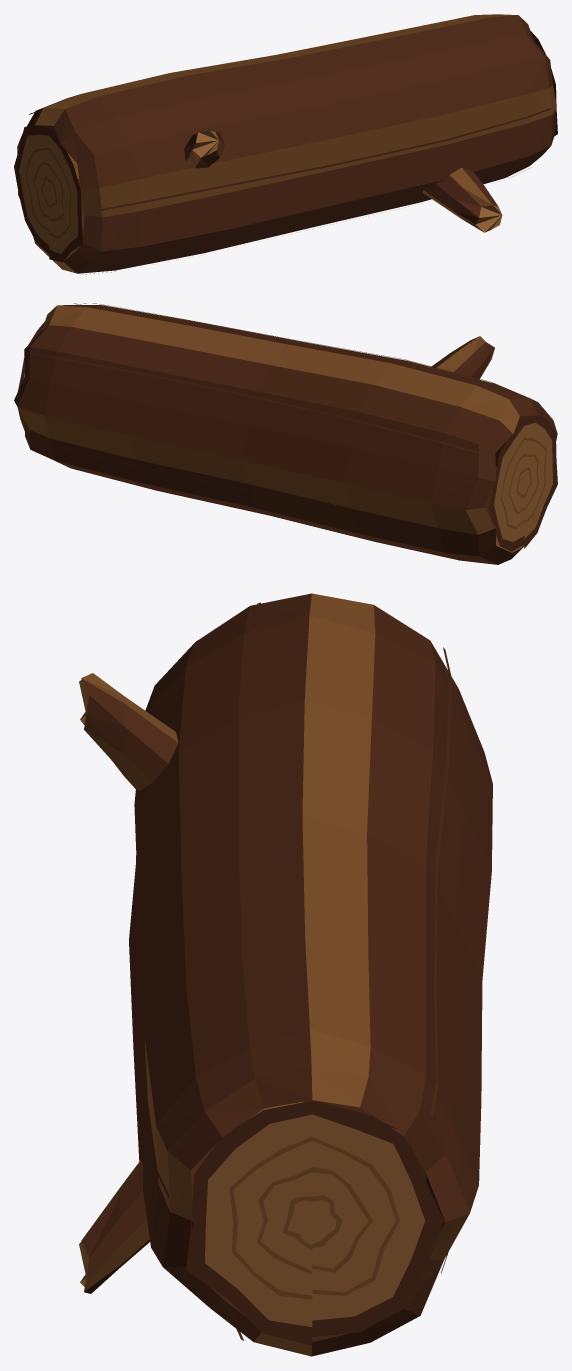
Rendered from SM_ForestCartoonLog.obj.
The picture shows the model from 3 angles, top to bottom: view 1: azimuth 30°, elevation 25°; view 2: azimuth 150°, elevation 25°; view 3: azimuth 270°, elevation 25°; orthographic projection. The views are drawn at different scales.
Visible parts, largest first — view 1: SM_ForestCartoonLog; view 2: SM_ForestCartoonLog; view 3: SM_ForestCartoonLog.
Part boxes in pixels (x1=…): SM_ForestCartoonLog: x1=14, y1=14, x2=557, y2=274; SM_ForestCartoonLog: x1=14, y1=303, x2=557, y2=564; SM_ForestCartoonLog: x1=79, y1=593, x2=492, y2=1356.
Size of the model in its own units: 297 by 104 by 111.
